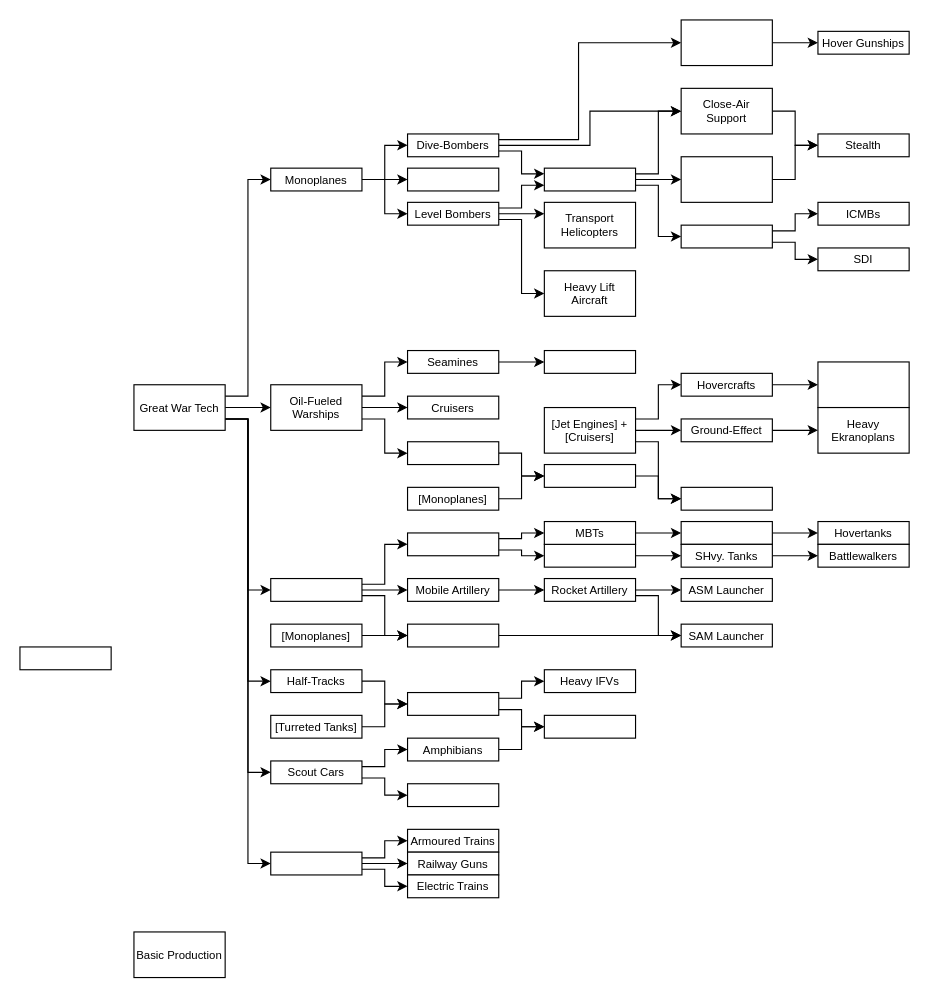
Some shapes in this 929 by 998 pixel diagram are drawn without their labels. Here are the shapes that lost their labels. From the top down, the box of each, then its label:
(680, 19, 772, 66): Attack Helicopters
(406, 167, 499, 191): Seaplanes
(543, 167, 636, 191): Jet Engines
(680, 156, 772, 202): Strategic Bombers
(680, 224, 772, 248): Cruise Missiles
(543, 349, 636, 373): Submarines
(817, 361, 909, 408): Advanced Hovercrafts
(406, 441, 499, 465): Battleships
(543, 463, 636, 487): Aircraft Carriers
(680, 486, 772, 510): Naval Jets
(406, 532, 499, 556): Tank Destroyers
(680, 520, 772, 544): Improved Tanks
(543, 543, 636, 567): Heavy Tanks
(270, 577, 362, 601): Turreted Tanks
(406, 623, 499, 647): Mobile Anti-Air
(406, 691, 499, 715): IFVs
(543, 714, 636, 738): Amphib. IFVs
(406, 783, 499, 807): Armoured Cars
(270, 851, 362, 875): Diesel Trains
